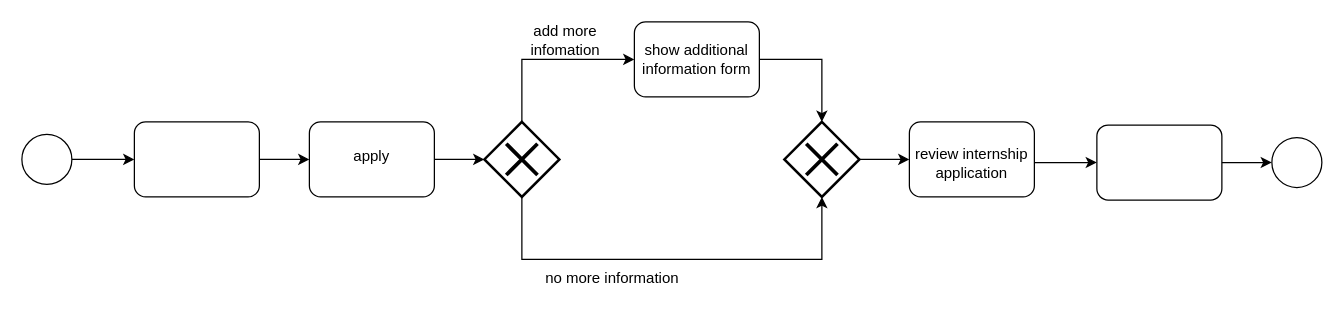
This 1344x319 diagram has some shape labels left out. The shapes that lost their labels are listed below. From the top down, each one's centre as x and y in pixels, then its label:
(x=196, y=159): show internship form
(x=1159, y=162): send notification
